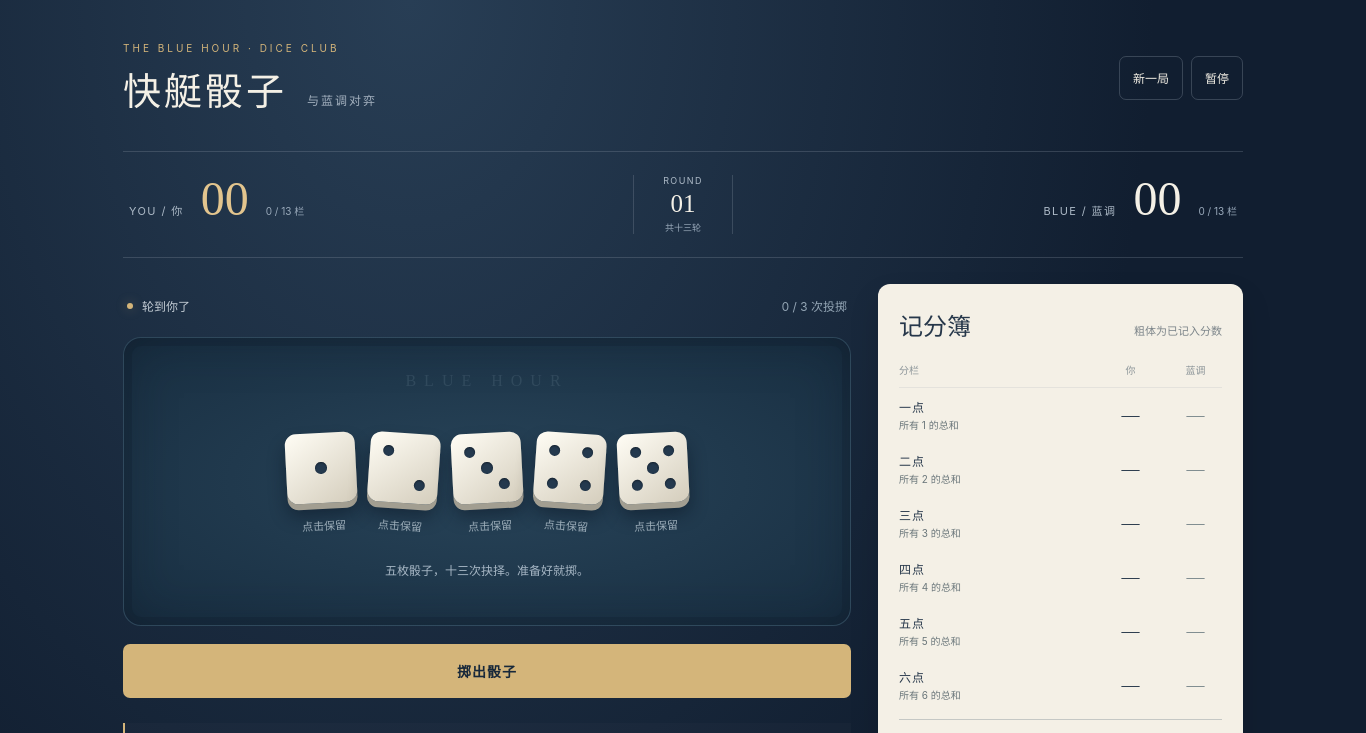
Test: interaction safety › changing dice invalidates a pending score selection
The width and height of the screenshot is (1366, 733).
Click the button "掷出骰子" at point(487, 671), box x1=123 y1=644 x2=851 y2=698
Wait 400 ms
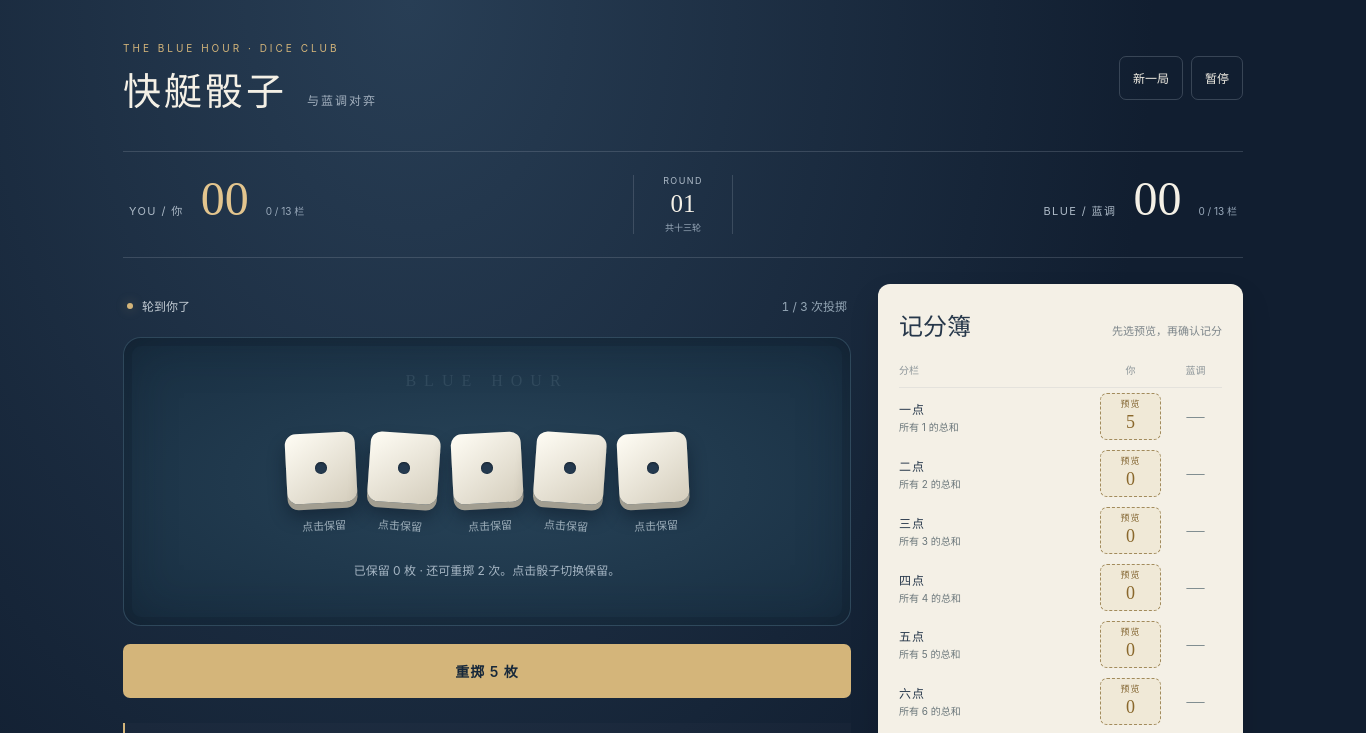
Click the button with aria-label "一点，记入 5 分" at point(1130, 417), box x1=1100 y1=393 x2=1161 y2=440
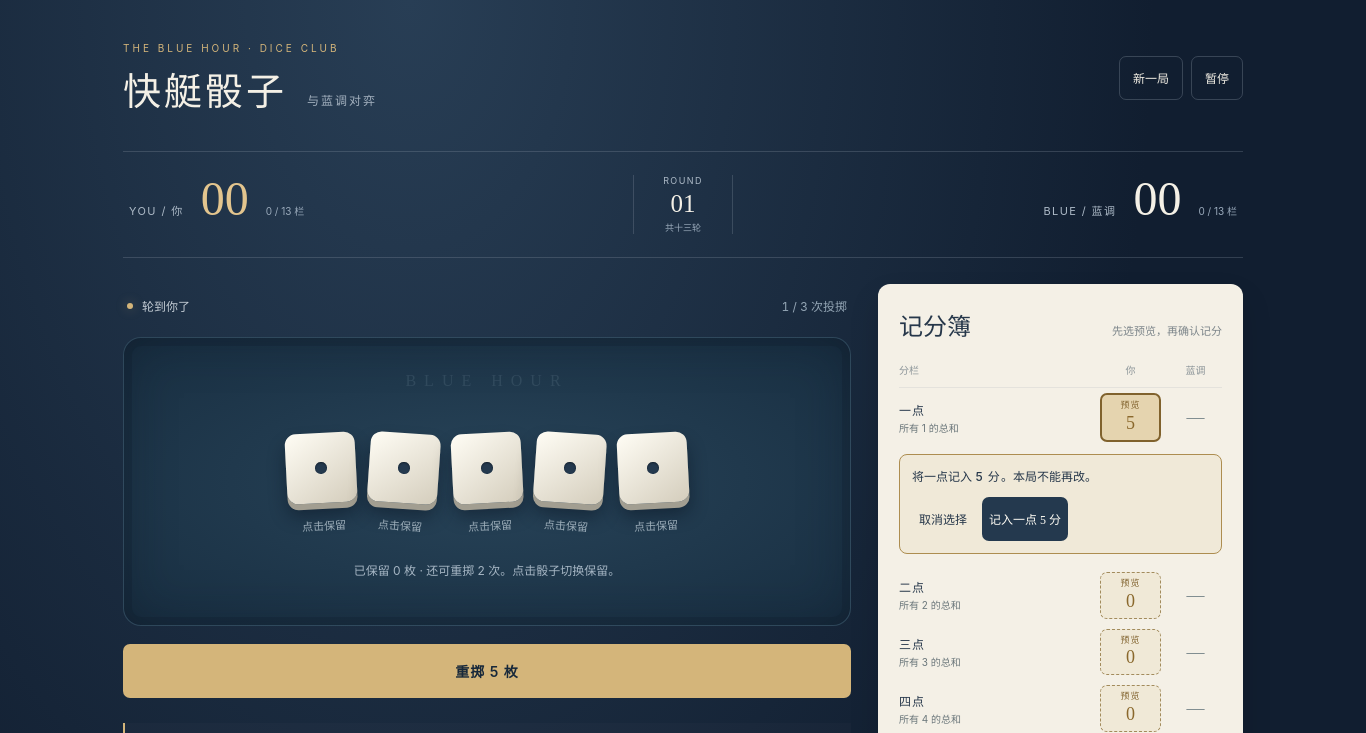
Click the button with aria-label "骰子 1" at point(321, 468), box x1=284 y1=432 x2=358 y2=505
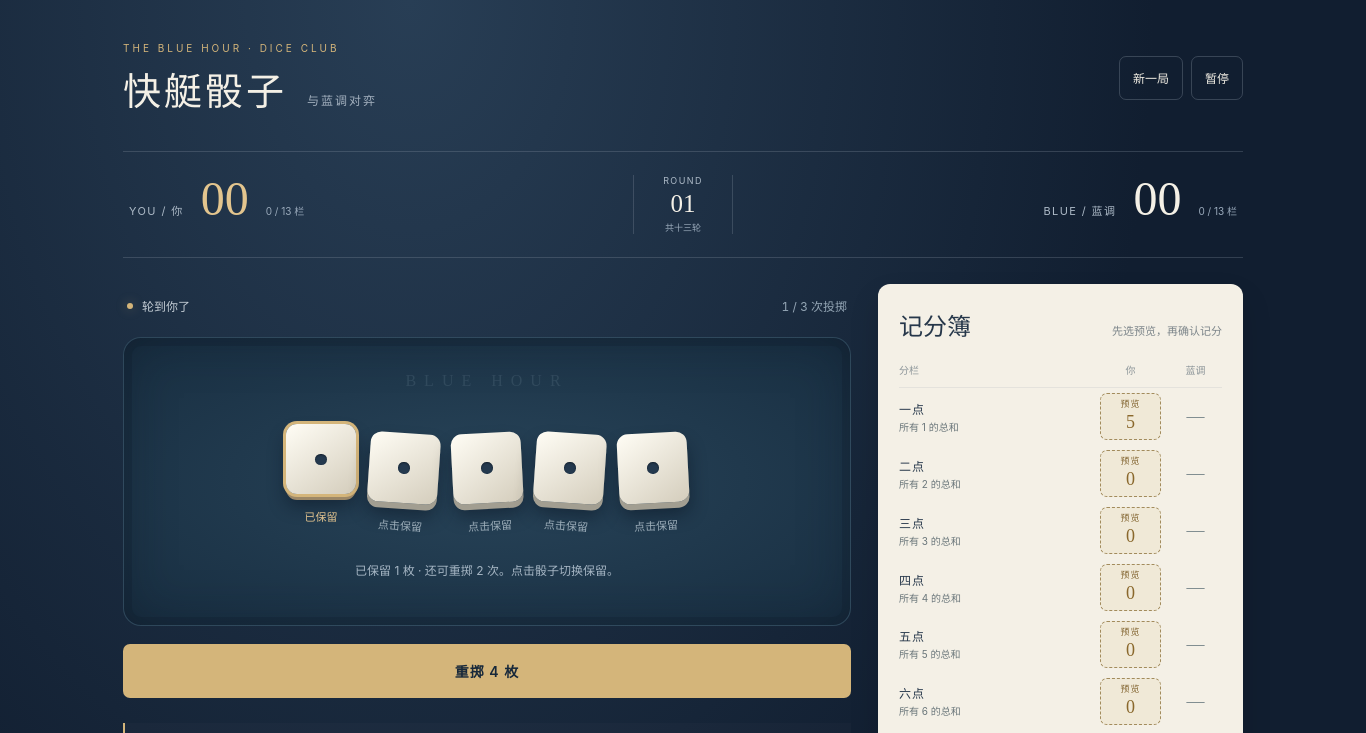
Expected: the button "记入一点 5 分" is gone
